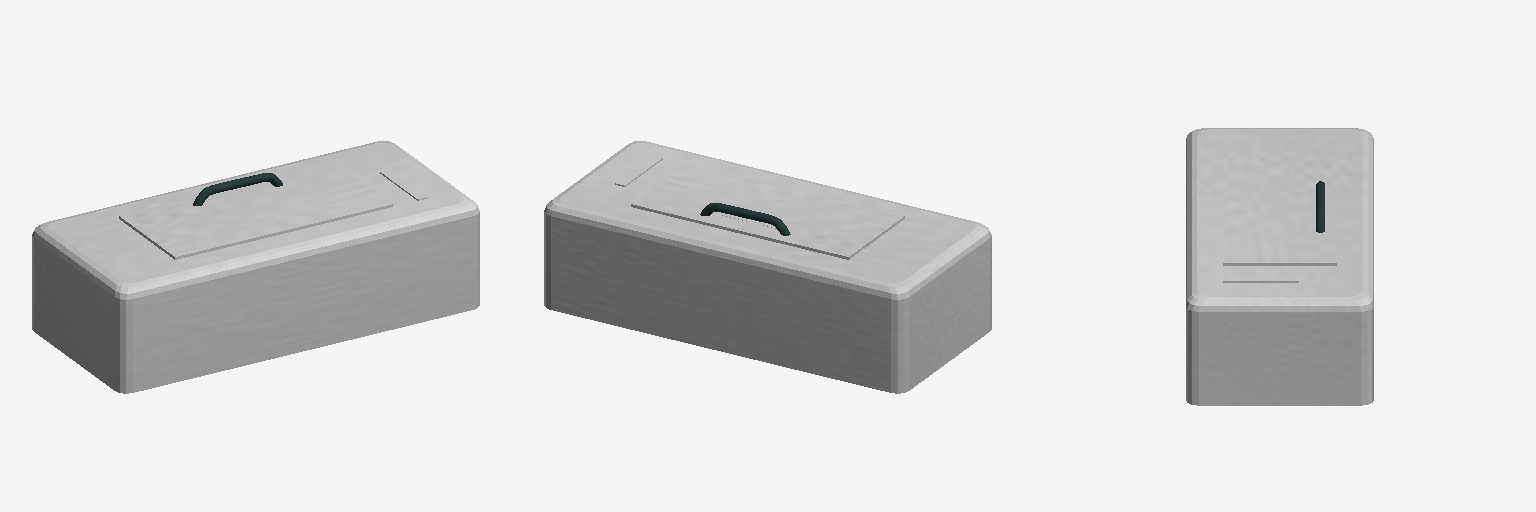
The picture shows the model from 3 angles: view 1: azimuth 30°, elevation 25°; view 2: azimuth 150°, elevation 25°; view 3: azimuth 270°, elevation 25°; orthographic projection.
Parts seen in each view (by area): view 1: pCylinder2; view 2: pCylinder2; view 3: pCylinder2.
Part boxes in pixels (x1,y1,x2,y2): pCylinder2: (32,141,479,393); pCylinder2: (544,141,991,393); pCylinder2: (1186,128,1373,405).
Size of the model in its own units: 12.54 by 4.03 by 5.63.
2 materials, 1 textured.